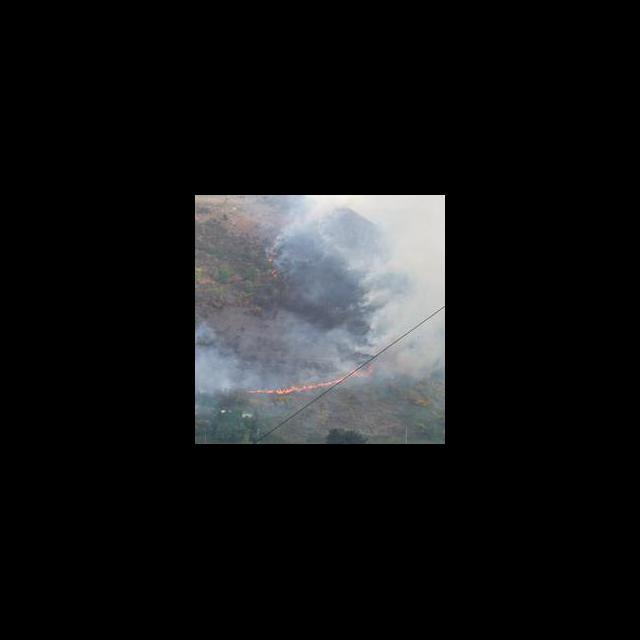Fire: (247, 364, 371, 403)
Smoke: (274, 195, 445, 375), (195, 317, 243, 422)
